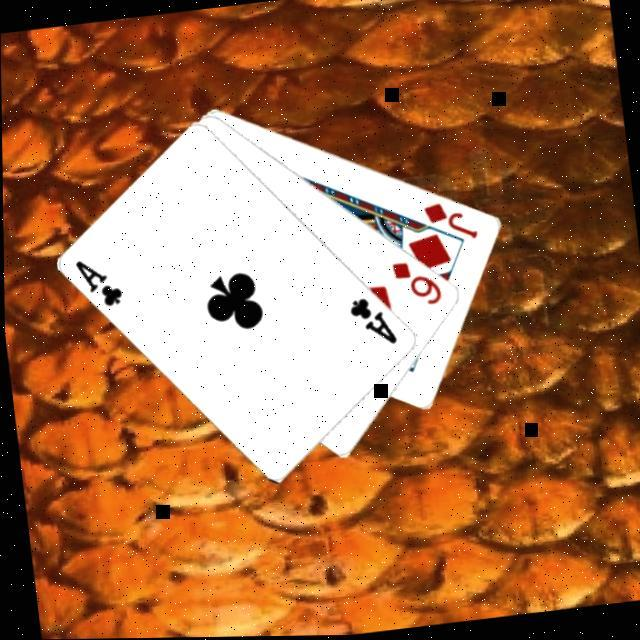6D: (386, 256, 444, 314)
AC: (70, 253, 126, 315), (344, 292, 399, 354)
JD: (418, 197, 480, 250)
